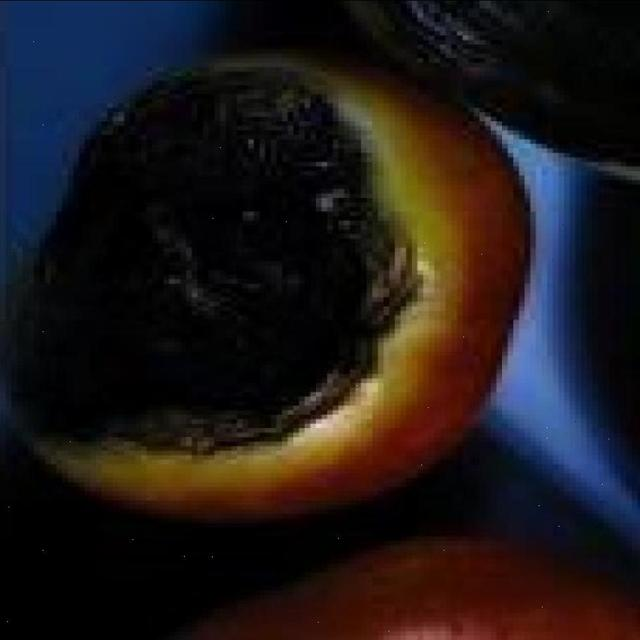Blossom End Rot Fruit: (152, 56, 343, 253)
